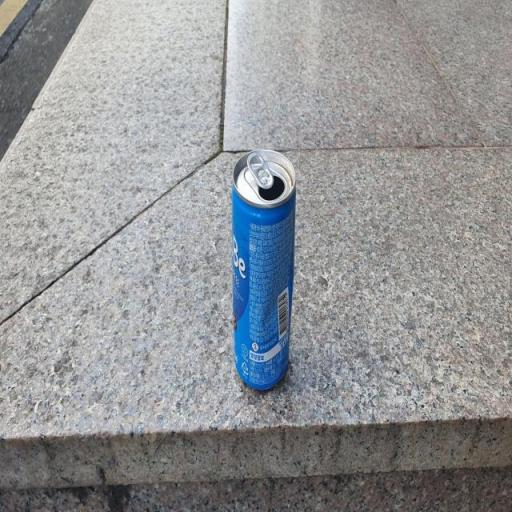metal: (212, 128, 310, 414)
